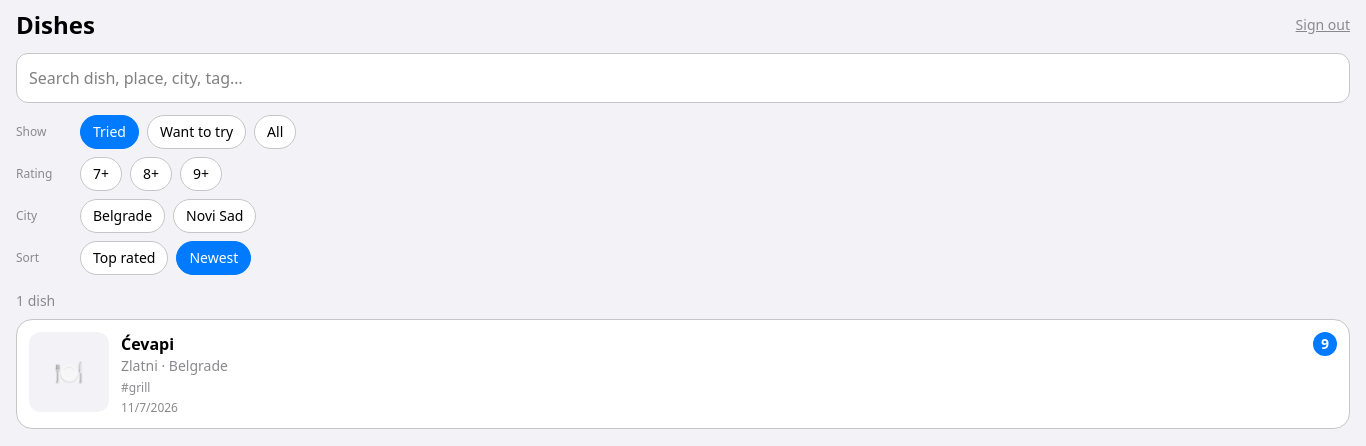
Test case: Dishes: browse, search and filters › shows "No matches" with a way back, instead of the first-run screen
The image size is (1366, 446).
expect the heading "Ćevapi" is shown: met, box [121,332,174,356]
Click the button "9+". click: coordinates (201, 174)
box: [180,157,222,191]
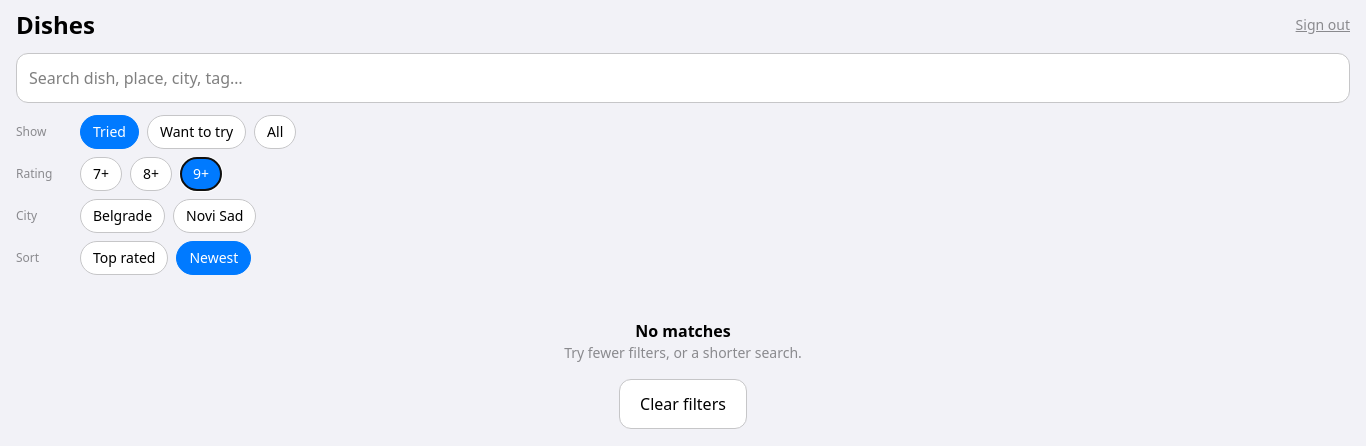
expect the text "No matches" is shown: met, box [635,320,731,342]
Click the button "Clear filters". click: coordinates (683, 404)
box: [619,379,747,429]
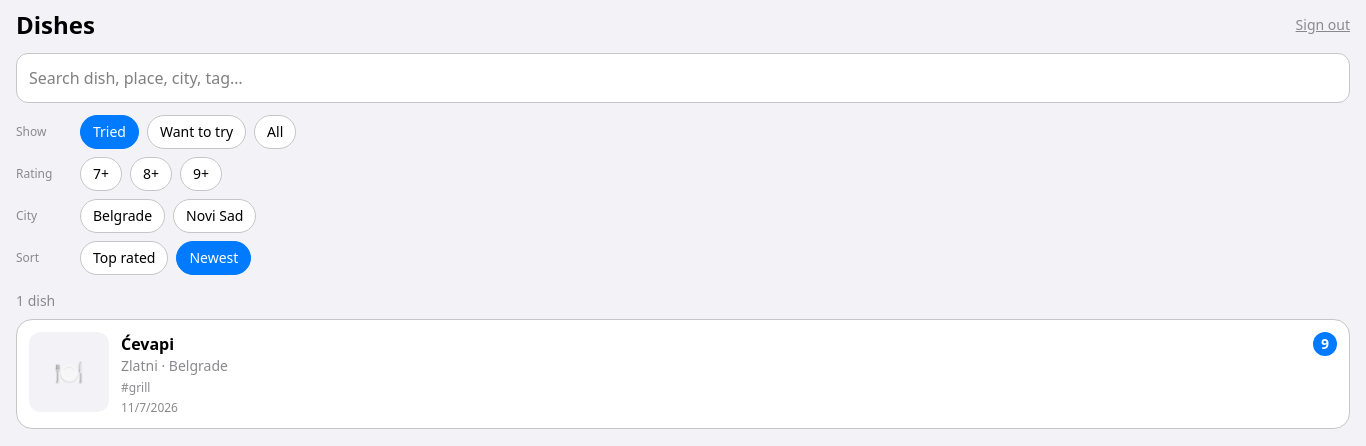
expect the heading "Ćevapi" is shown: met, box [121,332,174,356]
